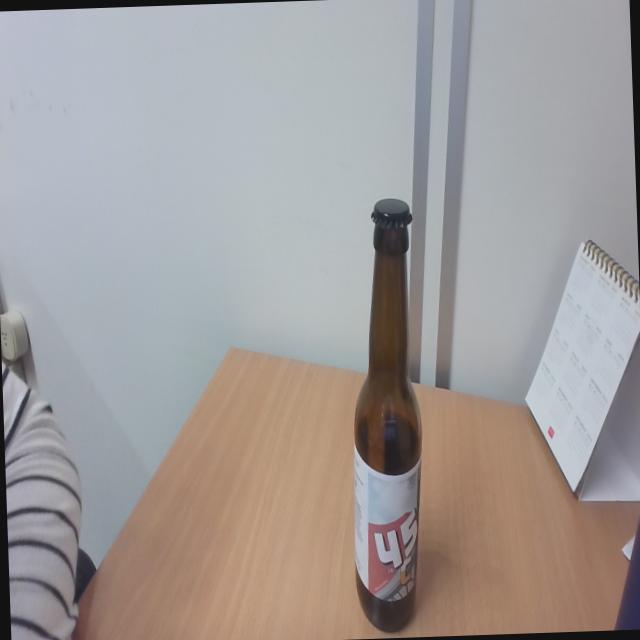Bottle: (342, 195, 428, 634)
Cap: (364, 194, 414, 232)
Label: (352, 460, 423, 602)
